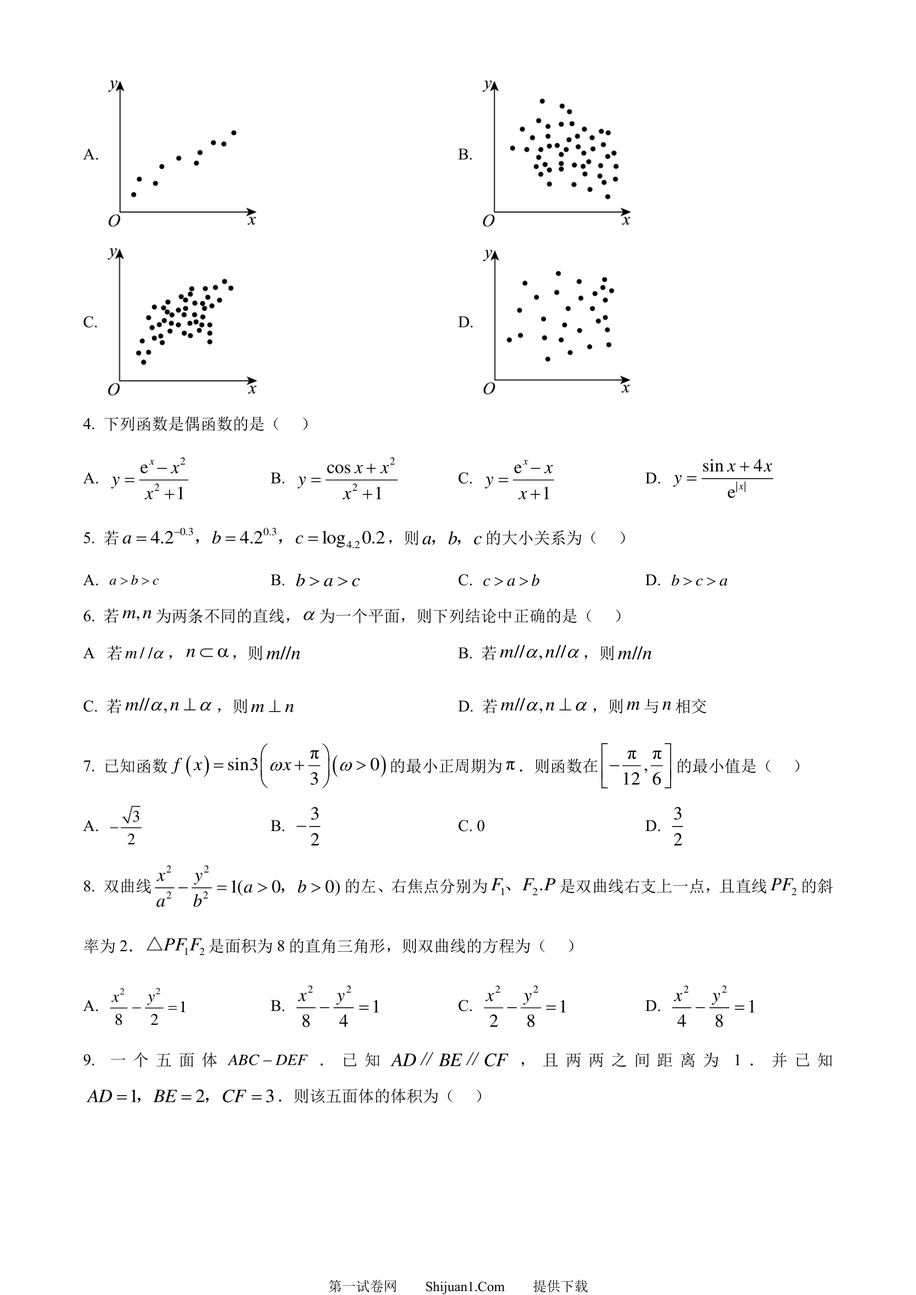question: (66, 47, 689, 406), (68, 858, 875, 1039), (68, 733, 836, 858), (63, 598, 742, 728), (68, 1036, 860, 1140), (61, 406, 795, 511), (63, 509, 761, 596)
